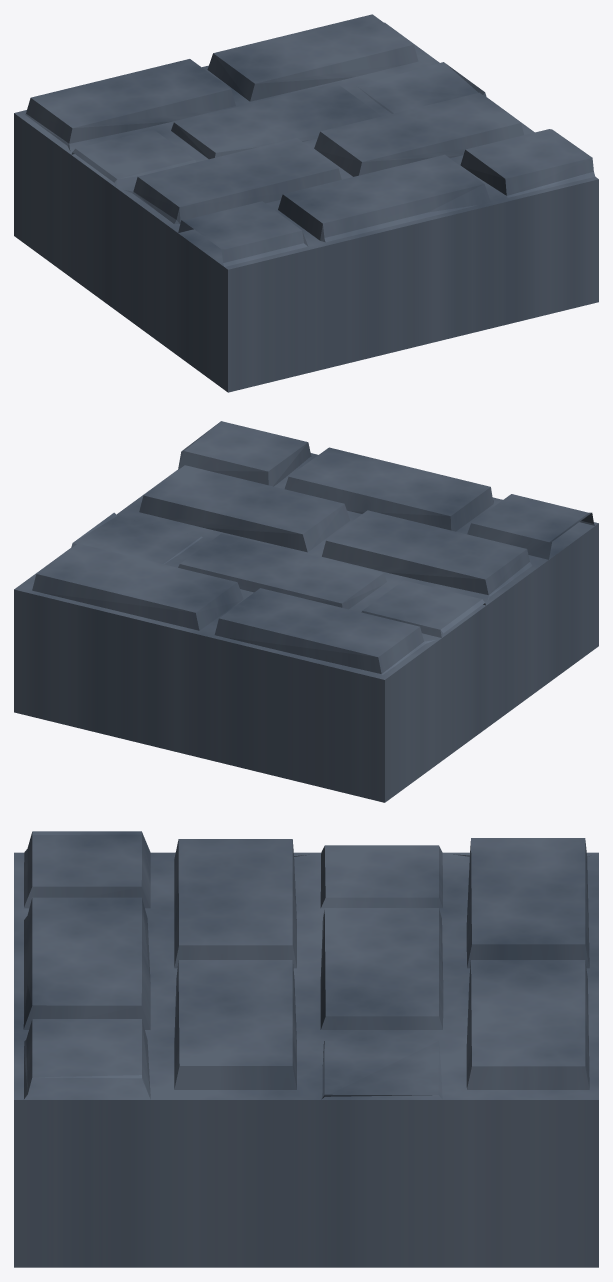
The model's file is BricksTile1.glb.
3 renders of one model, top to bottom at view 1: azimuth 30°, elevation 25°; view 2: azimuth 150°, elevation 25°; view 3: azimuth 270°, elevation 25°, orthographic. The views are drawn at different scales.
Parts seen in each view (by area): view 1: BricksTile1; view 2: BricksTile1; view 3: BricksTile1.
Part boxes in pixels (<box>): BricksTile1: <box>14,14,598,392</box>; BricksTile1: <box>14,421,598,802</box>; BricksTile1: <box>14,831,598,1267</box>.
Bounding box in the file's own units: 2 × 0.7193 × 2.
1 material, 1 textured.
